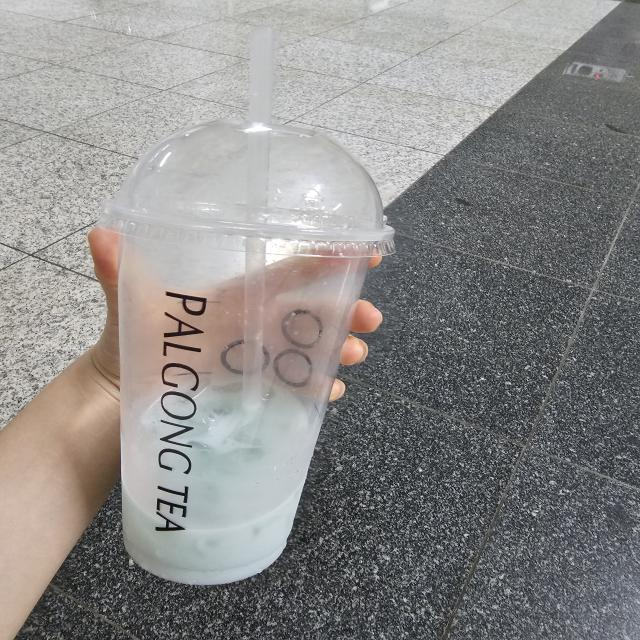cup: (88, 110, 405, 592)
